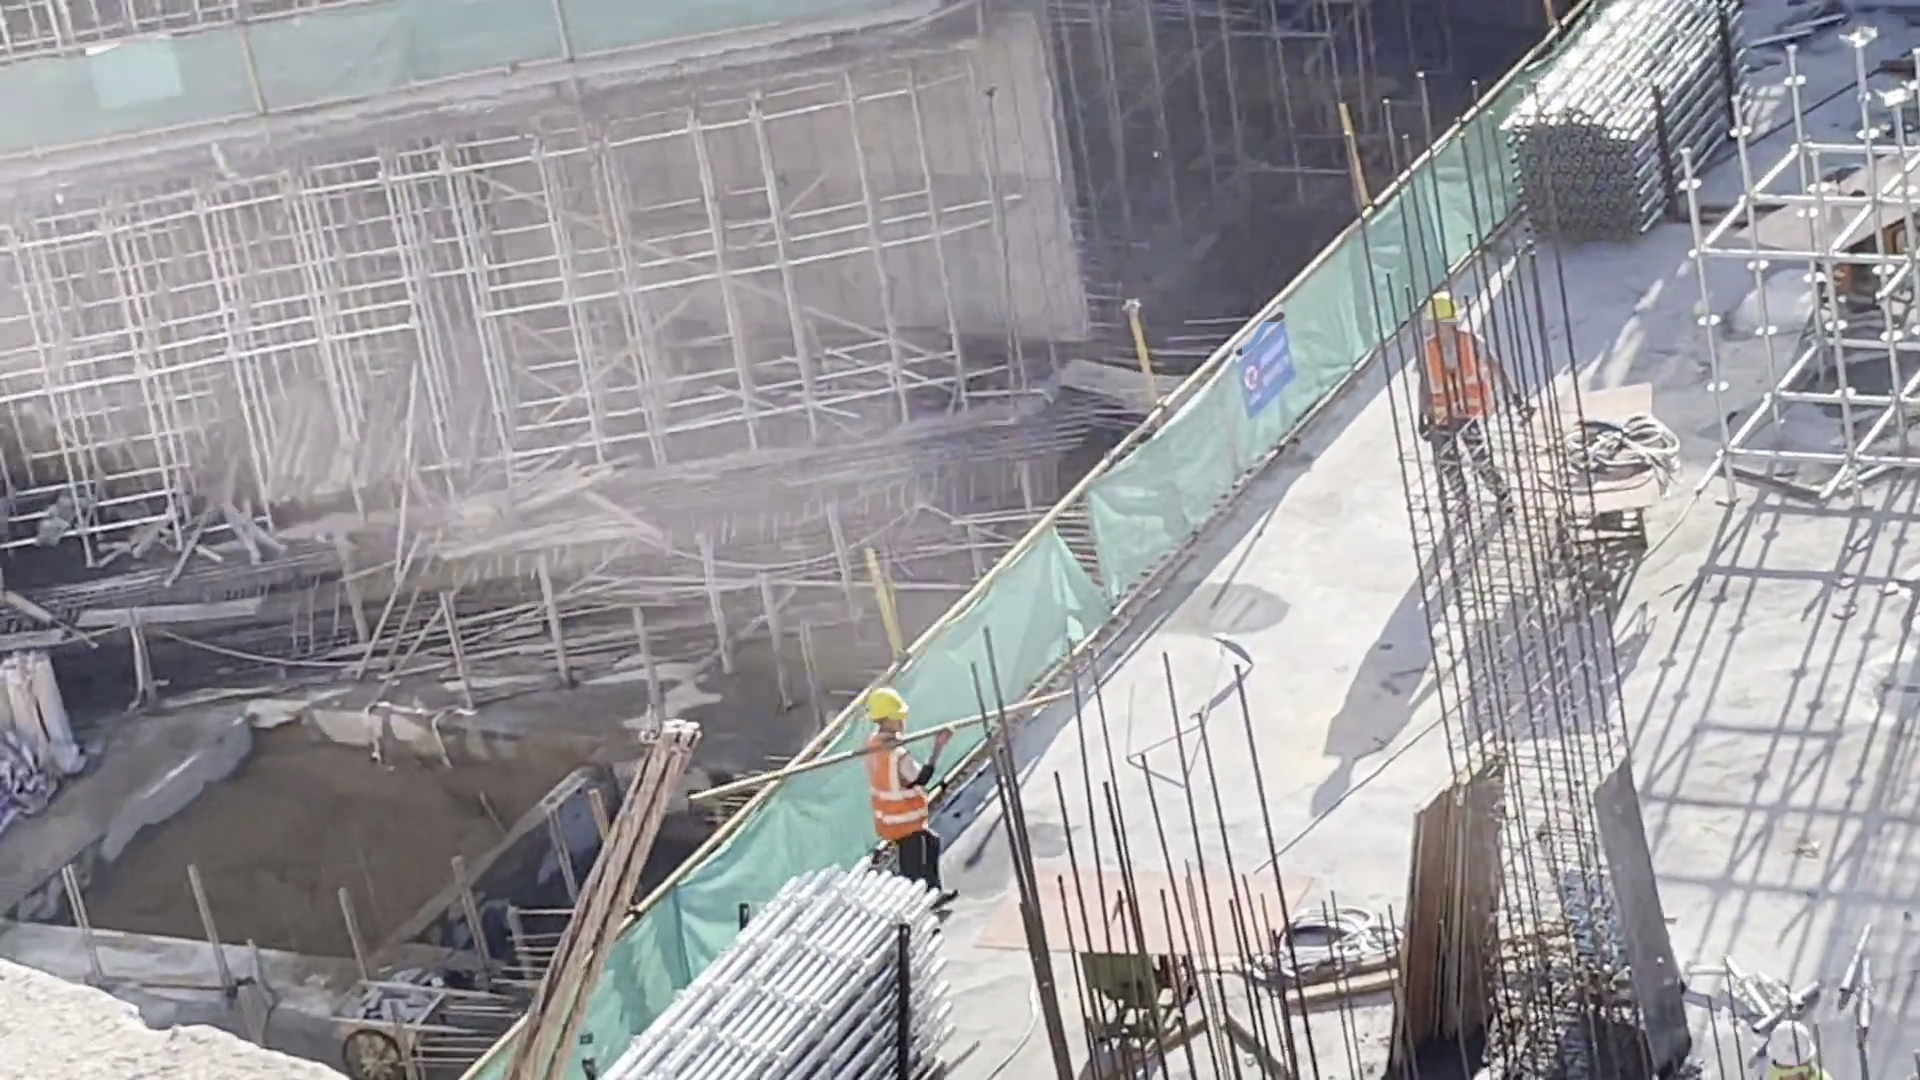cutter: (1015, 849, 1265, 1005), (1531, 395, 1664, 579), (1800, 214, 1920, 359)
helmet: (1759, 1022, 1811, 1067), (858, 692, 913, 730), (1423, 294, 1474, 331)
person: (1408, 286, 1545, 525), (858, 689, 971, 931), (1757, 1004, 1841, 1080)
scaffold: (595, 887, 936, 1079), (1531, 16, 1740, 237)
slogan: (1237, 314, 1298, 409)
vest: (862, 740, 934, 840), (1423, 341, 1492, 434)
